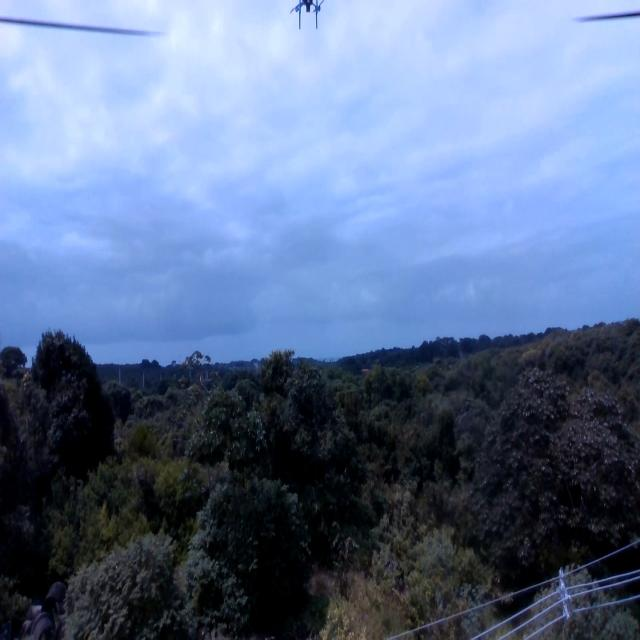-uav-: (284, 2, 333, 31)
